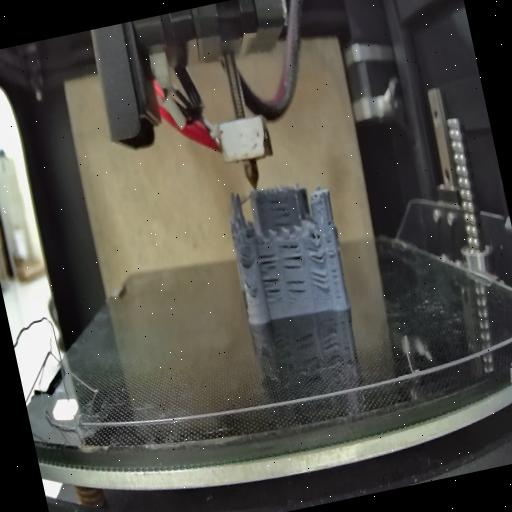cracks: (322, 234, 348, 300), (256, 250, 284, 301), (266, 194, 295, 228), (276, 240, 304, 272), (303, 236, 327, 269), (284, 274, 308, 301), (312, 268, 330, 294), (237, 248, 254, 266), (322, 211, 334, 227), (242, 278, 254, 294)
